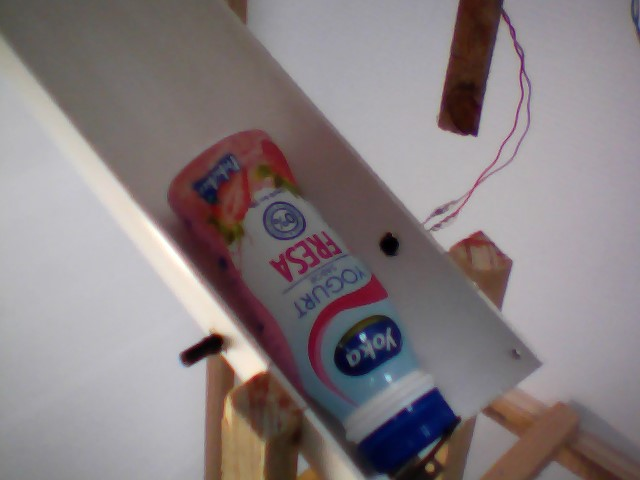plastico: (160, 120, 478, 475)
